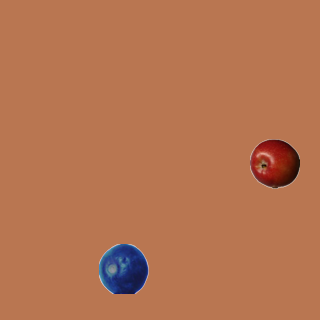Apple Braeburn: (249, 138, 299, 188)
Huckleberry: (98, 243, 148, 293)
